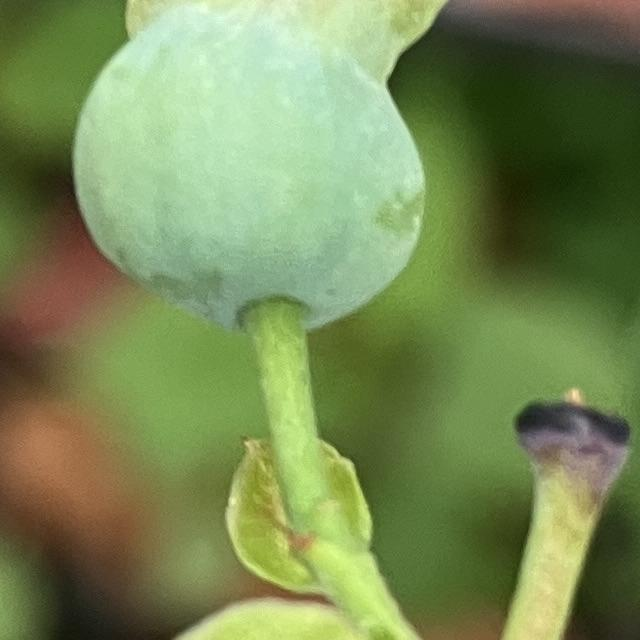Blueberries: (65, 0, 450, 337)
